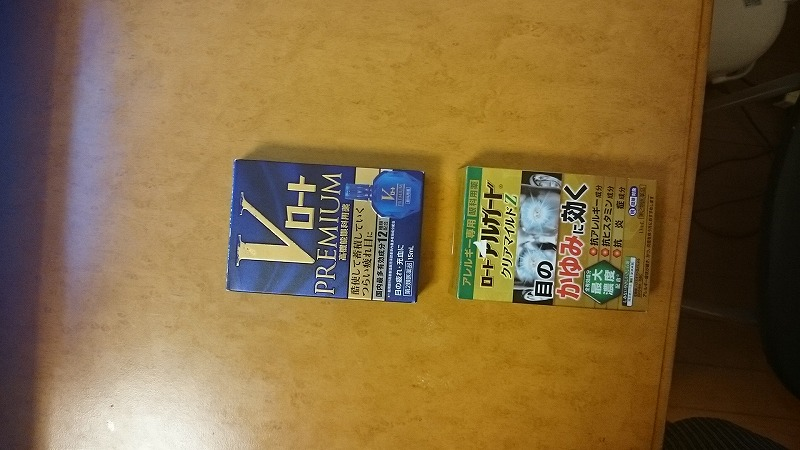C: (446, 160, 659, 324)
D: (224, 153, 429, 310)
